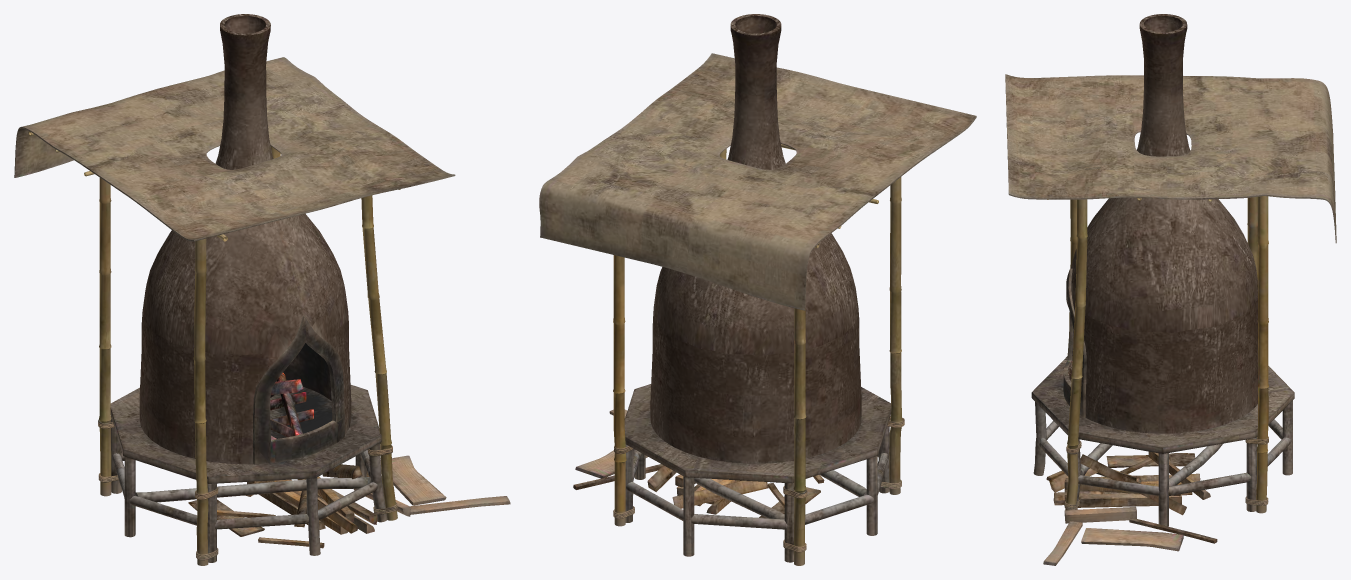
Rendered from xi_oam_burner.gltf.
The picture shows the model from 3 angles, left to right: view 1: azimuth 30°, elevation 25°; view 2: azimuth 150°, elevation 25°; view 3: azimuth 270°, elevation 25°; orthographic projection. The views are drawn at different scales.
Parts seen in each view (by area): view 1: xi_oam_burner; view 2: xi_oam_burner; view 3: xi_oam_burner.
Boxes of the visible parts, <box> form: xi_oam_burner: <box>14,14,510,565</box>; xi_oam_burner: <box>539,14,976,565</box>; xi_oam_burner: <box>1005,14,1336,565</box>.
Size of the model in its own units: 2.33 by 3.11 by 2.08.
Materials: 1 (1 with a texture image).
